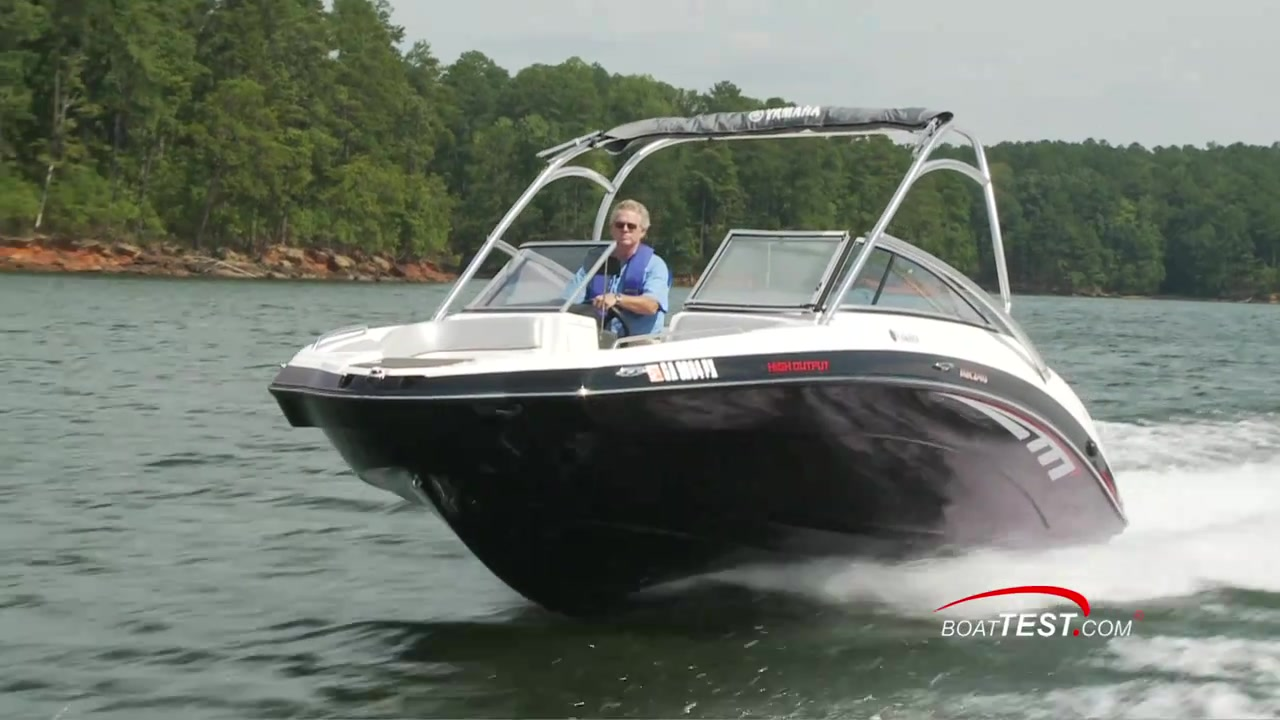boat: (268, 105, 1131, 631)
